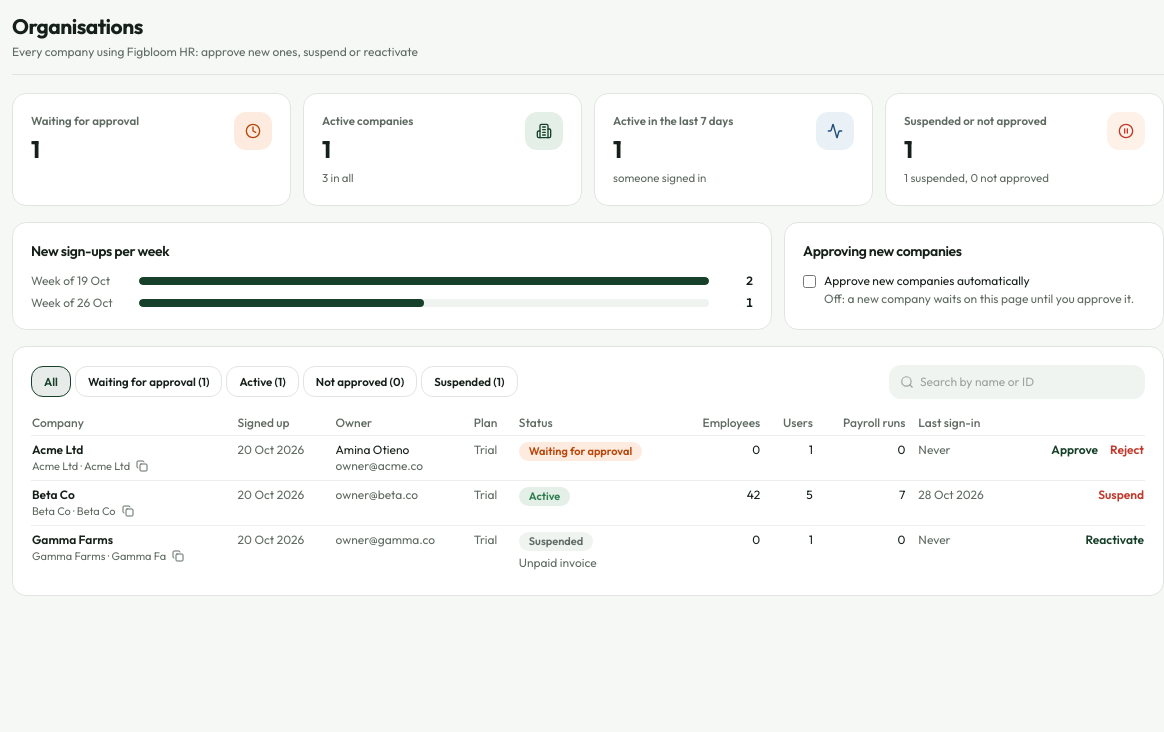
the organisations page › filters by status and searches by name
The width and height of the screenshot is (1164, 732).
Click the tab "Waiting for approval (1)": (149, 382) [75,366,222,397]
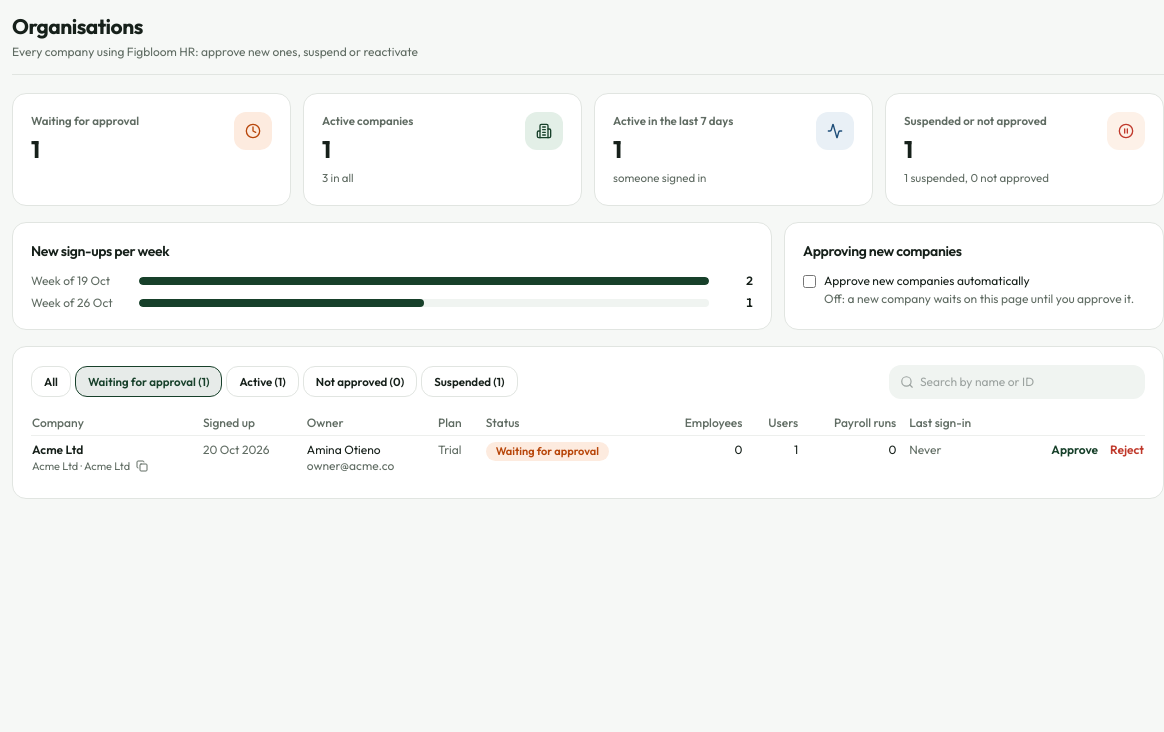
Expected: the text "Acme Ltd" is shown, [32,442,83,456]
Result: the text "Beta Co" is gone
Click the tab "All": (51, 382) [31,366,71,397]
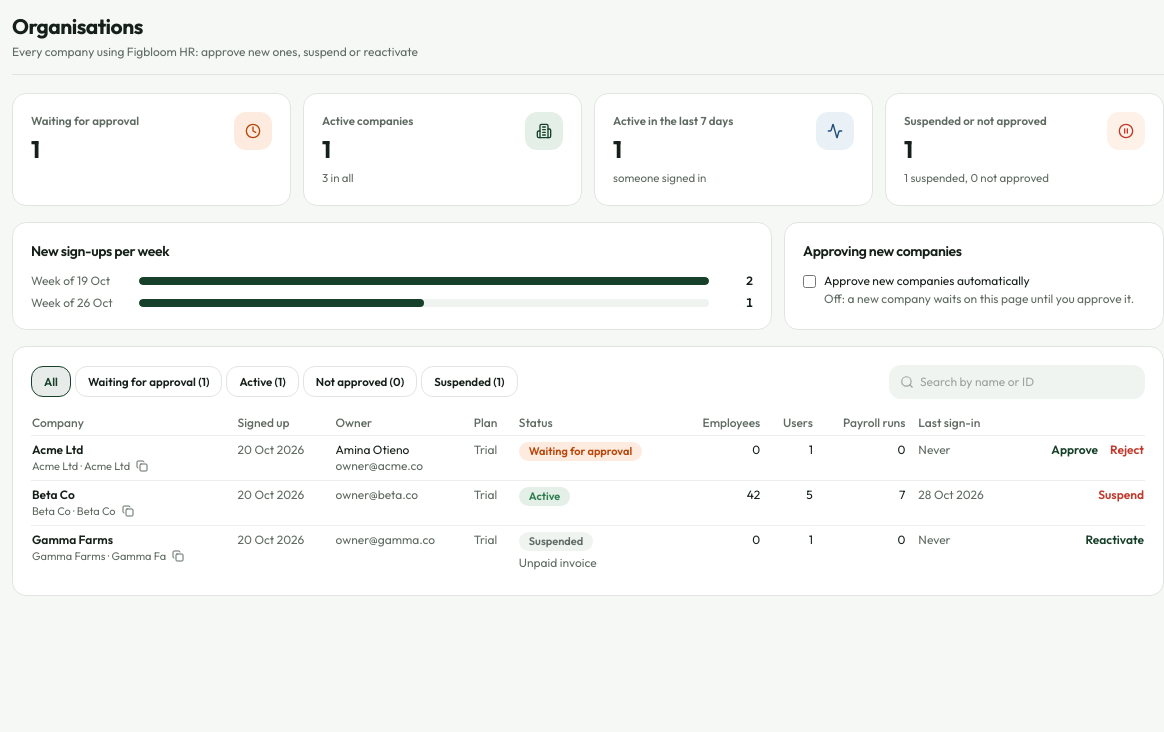
In the field with placeholder "Search by name or ID": (1017, 382) [889,364,1145,398], type "gam"
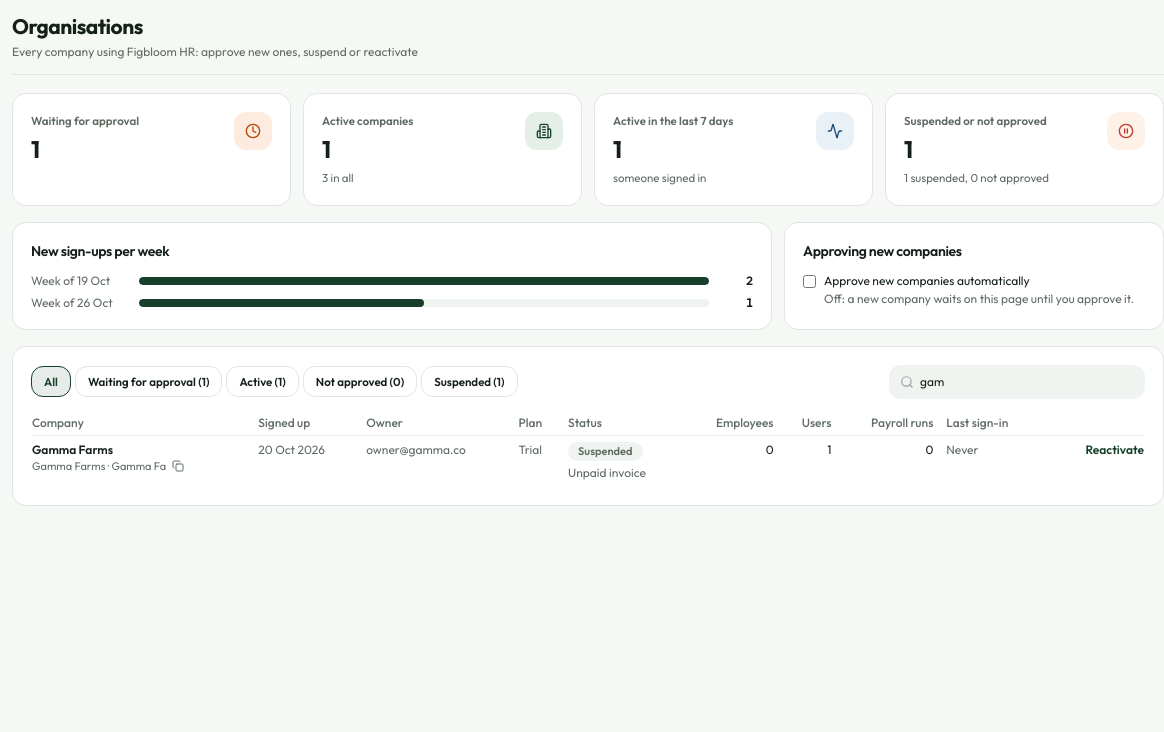
Result: the text "Gamma Farms" is shown at [32,442,113,456]
Result: the text "Acme Ltd" is gone
